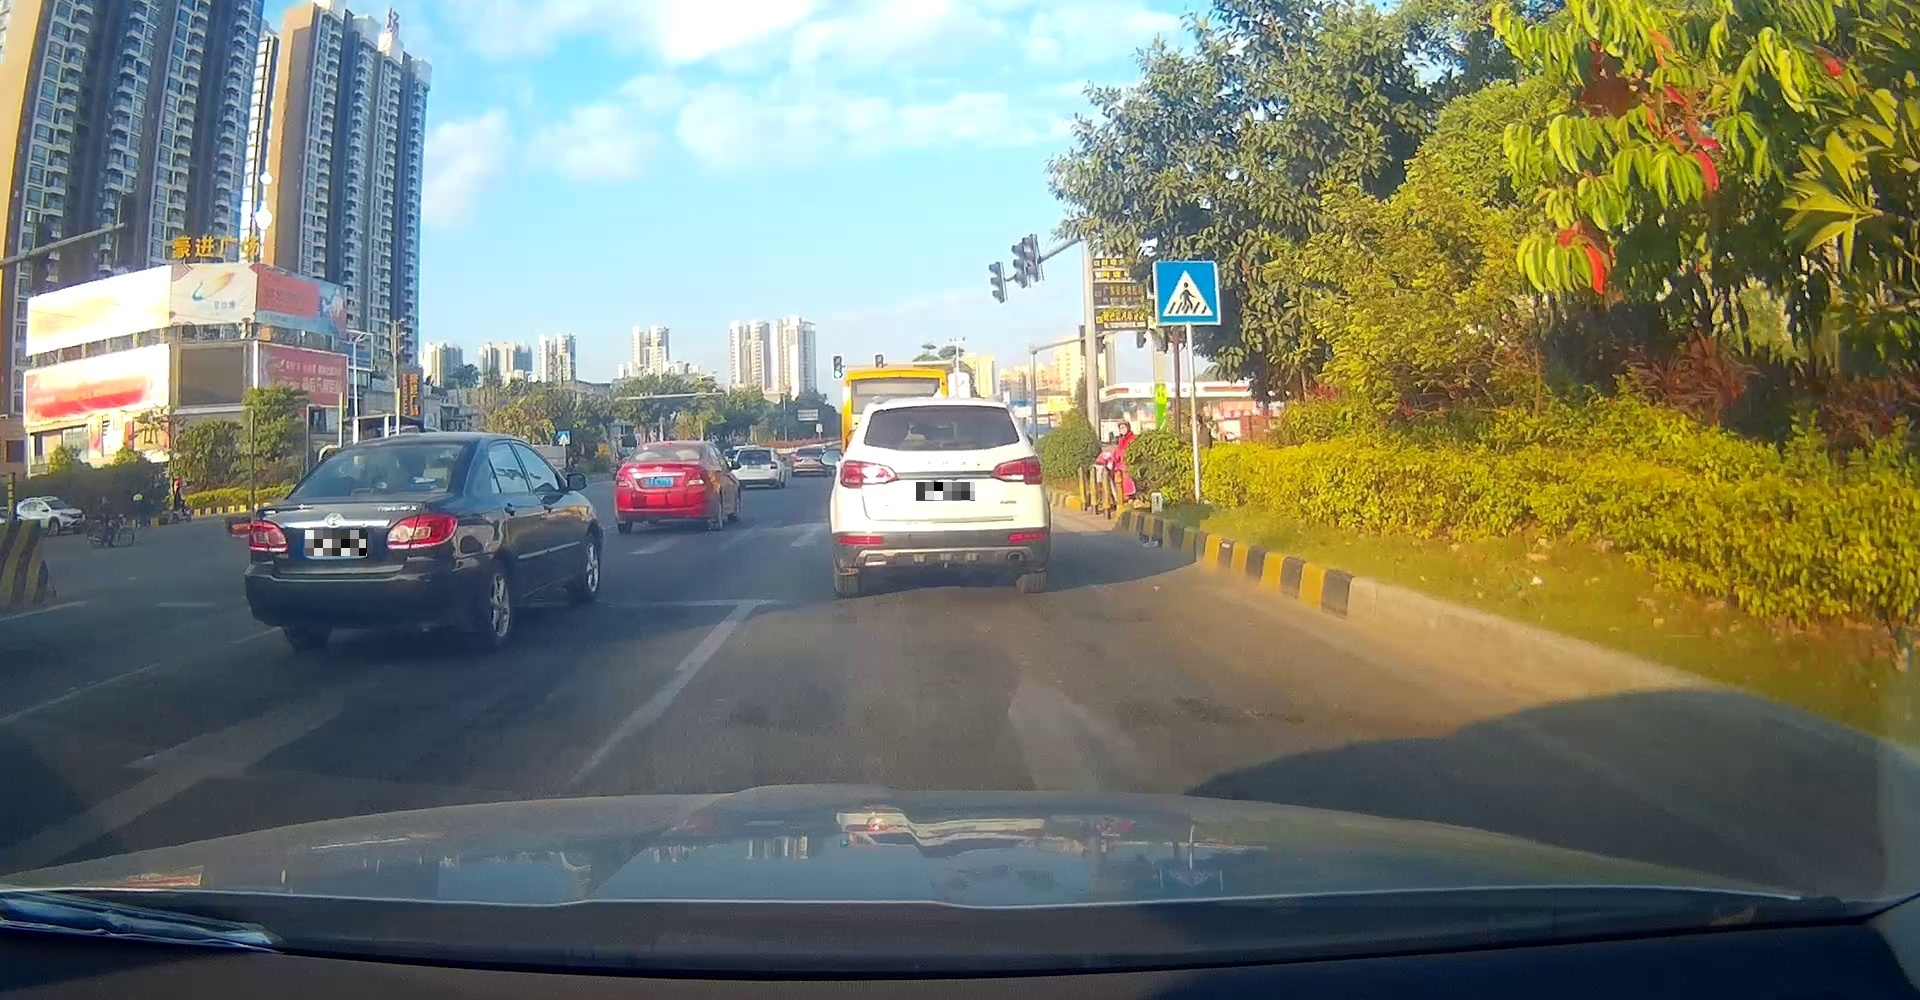L_light: (839, 459, 900, 489), (248, 519, 288, 551), (615, 473, 634, 487)
R_light: (385, 511, 458, 549), (989, 456, 1044, 485), (686, 470, 714, 486)
T_light: (921, 405, 968, 410), (350, 487, 377, 495), (658, 458, 673, 461)
day-no: (243, 431, 480, 652), (829, 396, 1049, 598), (613, 442, 715, 534)
plate_1: (305, 530, 366, 556)
plate_2: (916, 482, 975, 501)
